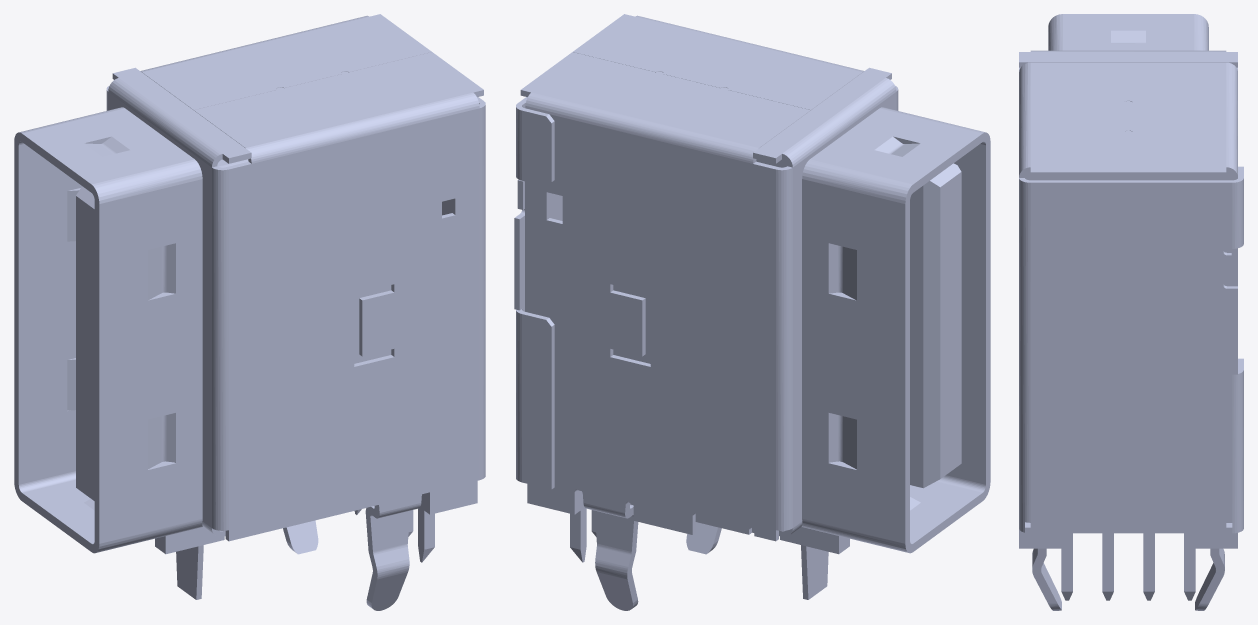
The model's file is beagleplay-usb-a.glb.
The picture shows the model from 3 angles, left to right: view 1: azimuth 30°, elevation 25°; view 2: azimuth 150°, elevation 25°; view 3: azimuth 270°, elevation 25°; orthographic projection. The views are drawn at different scales.
Visible parts, largest first — view 1: USB7P_1R4_14X5R72MM; view 2: USB7P_1R4_14X5R72MM; view 3: USB7P_1R4_14X5R72MM.
Part boxes in pixels (x1,y1,x2,y2): USB7P_1R4_14X5R72MM: [14, 14, 485, 610]; USB7P_1R4_14X5R72MM: [514, 14, 990, 610]; USB7P_1R4_14X5R72MM: [1019, 14, 1243, 610].
Bounding box in the file's own units: 14 × 18.09 × 7.7.
